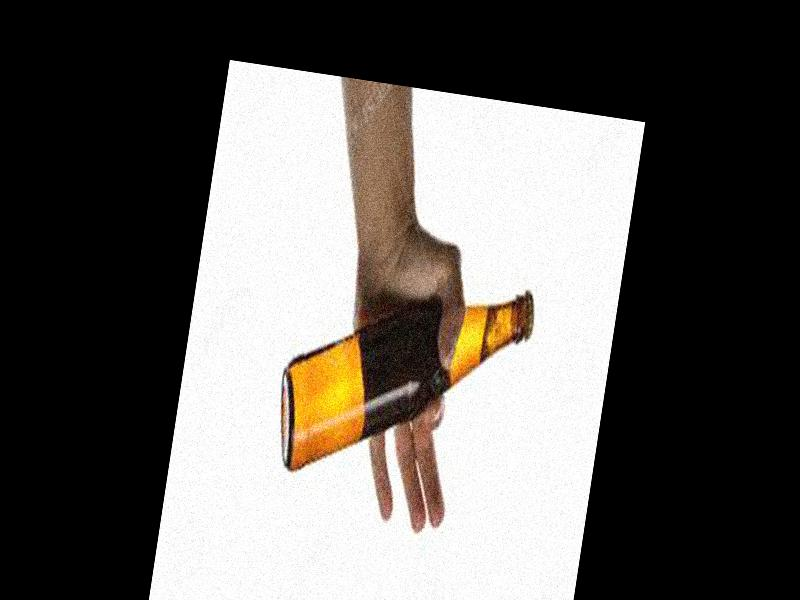Beer: (271, 262, 532, 496)
